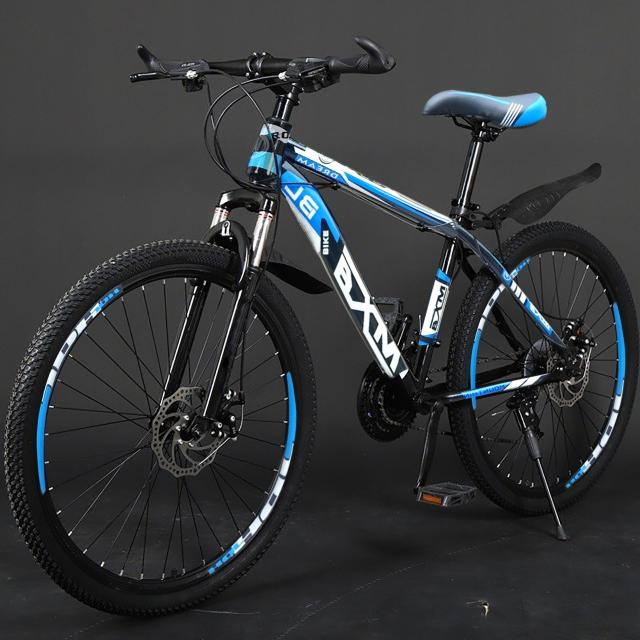bicycle: (3, 35, 638, 617)
